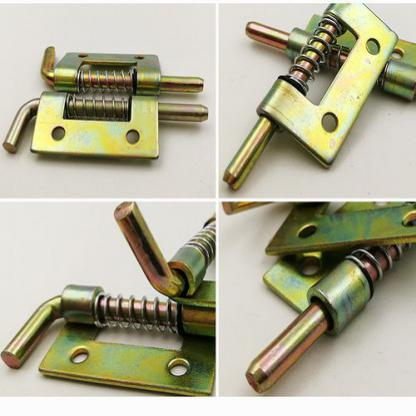FOD: (284, 12, 343, 90), (92, 291, 182, 337)
